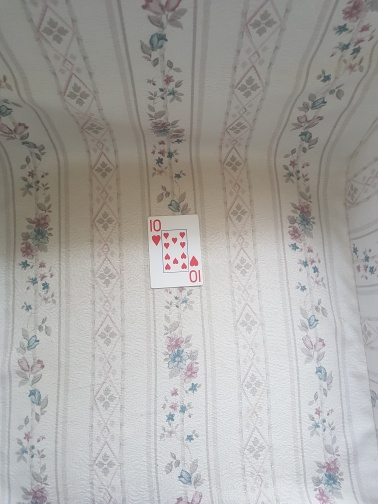ten: (147, 215, 203, 288)
